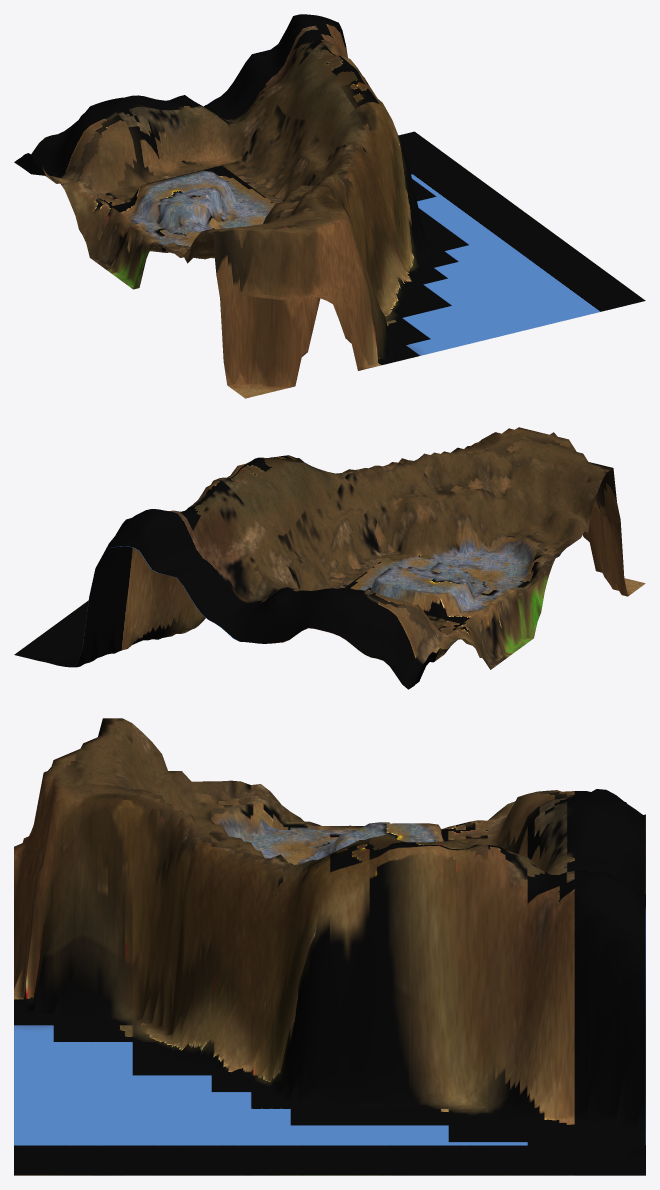
File: terrain.glb
The picture shows the model from 3 angles, top to bottom: view 1: azimuth 30°, elevation 25°; view 2: azimuth 150°, elevation 25°; view 3: azimuth 270°, elevation 25°; orthographic projection. The views are drawn at different scales.
Visible parts, largest first — view 1: terrain_0_2; view 2: terrain_0_2; view 3: terrain_0_2.
Part boxes in pixels (x1,y1,x2,y2): terrain_0_2: (14,14,645,398); terrain_0_2: (14,427,645,689); terrain_0_2: (14,718,645,1175).
Bounding box in the file's own units: 512 × 206 × 512.
1 material, 1 textured.
